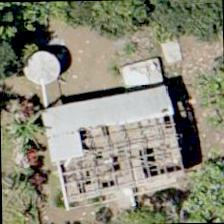Kelapa_Sawit: (0, 83, 68, 175)
